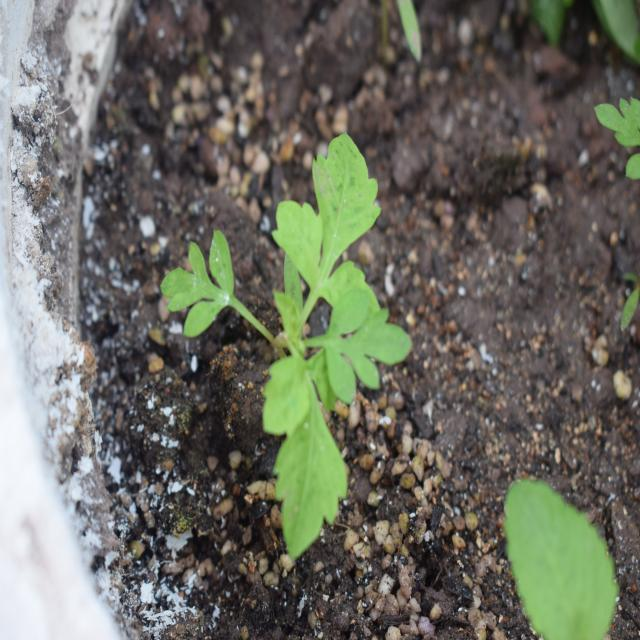Bidens pilosa: (174, 130, 424, 542)
